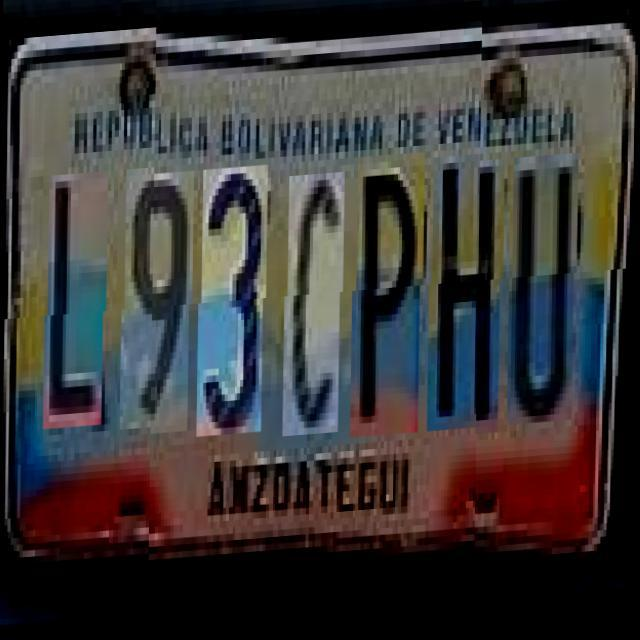3: (201, 169, 269, 440)
9: (124, 174, 195, 438)
C: (286, 178, 346, 442)
H: (432, 160, 506, 438)
L: (48, 180, 108, 437)
P: (354, 160, 426, 443)
U: (511, 156, 579, 427)
